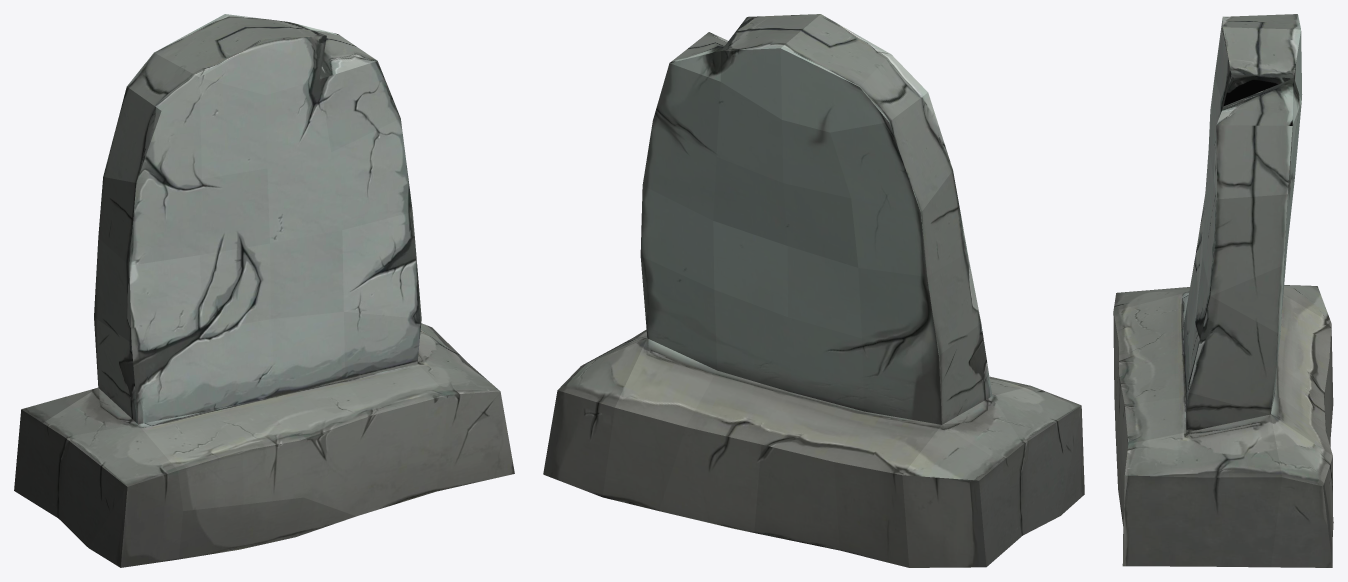
File: Grave_stone.glb
The picture shows the model from 3 angles, left to right: view 1: azimuth 30°, elevation 25°; view 2: azimuth 150°, elevation 25°; view 3: azimuth 270°, elevation 25°; orthographic projection. The views are drawn at different scales.
Visible parts, largest first — view 1: output; view 2: output; view 3: output.
Part boxes in pixels (x1=…): output: x1=14, y1=14, x2=514, y2=567; output: x1=543, y1=14, x2=1084, y2=567; output: x1=1113, y1=14, x2=1333, y2=567.
Size of the model in its own units: 1.75 by 1.95 by 0.8086.
Materials: 1 (1 with a texture image).
